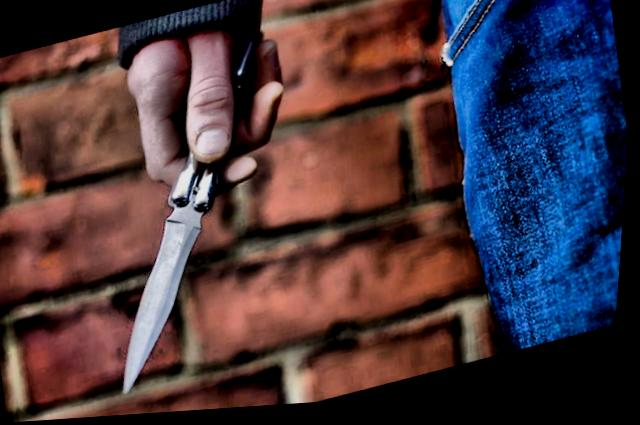knife: (71, 103, 302, 414)
